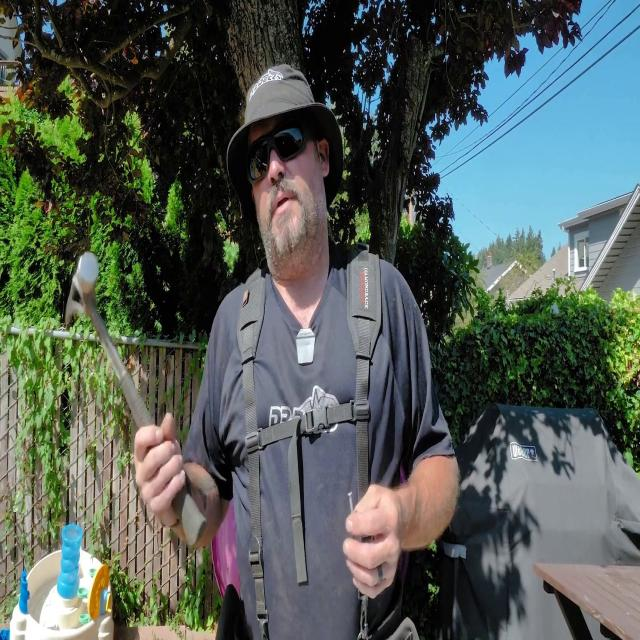hammer: (65, 251, 206, 547)
